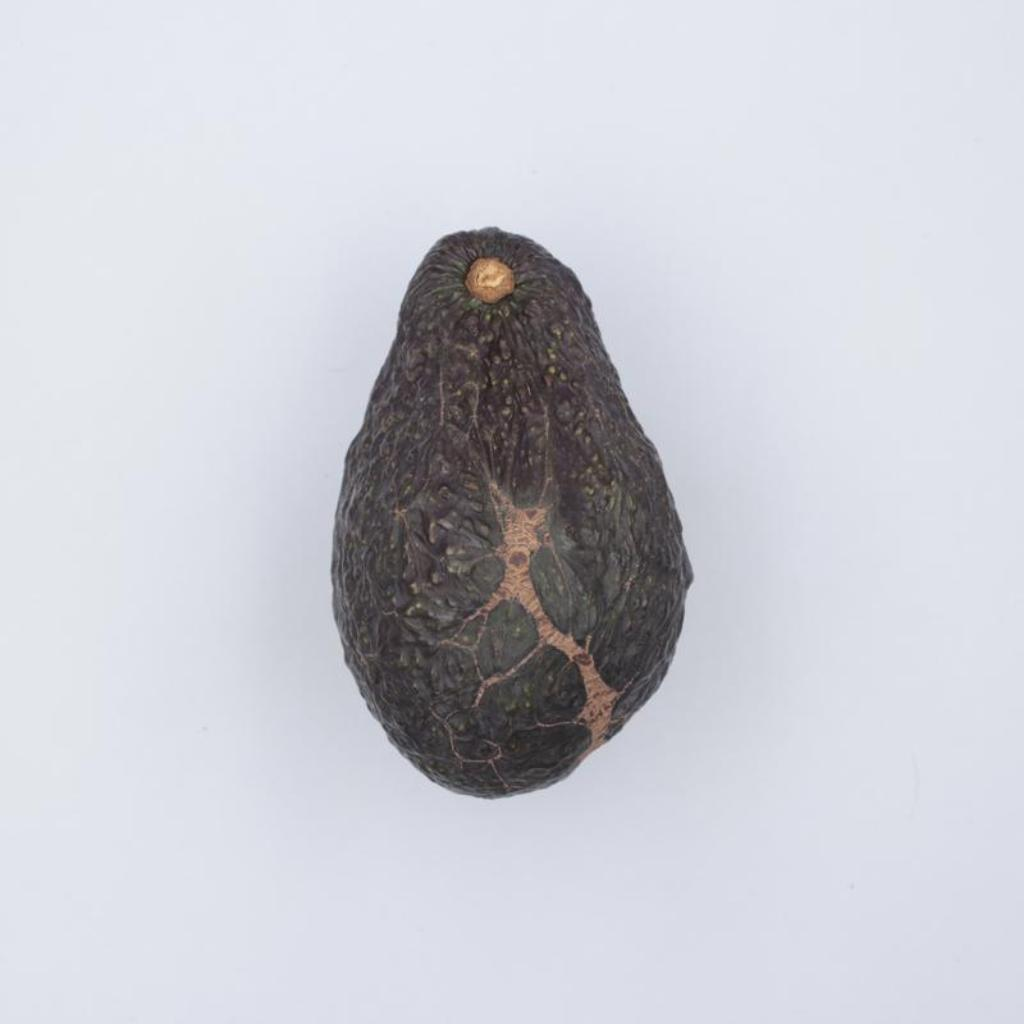rona: (333, 228, 691, 797)
